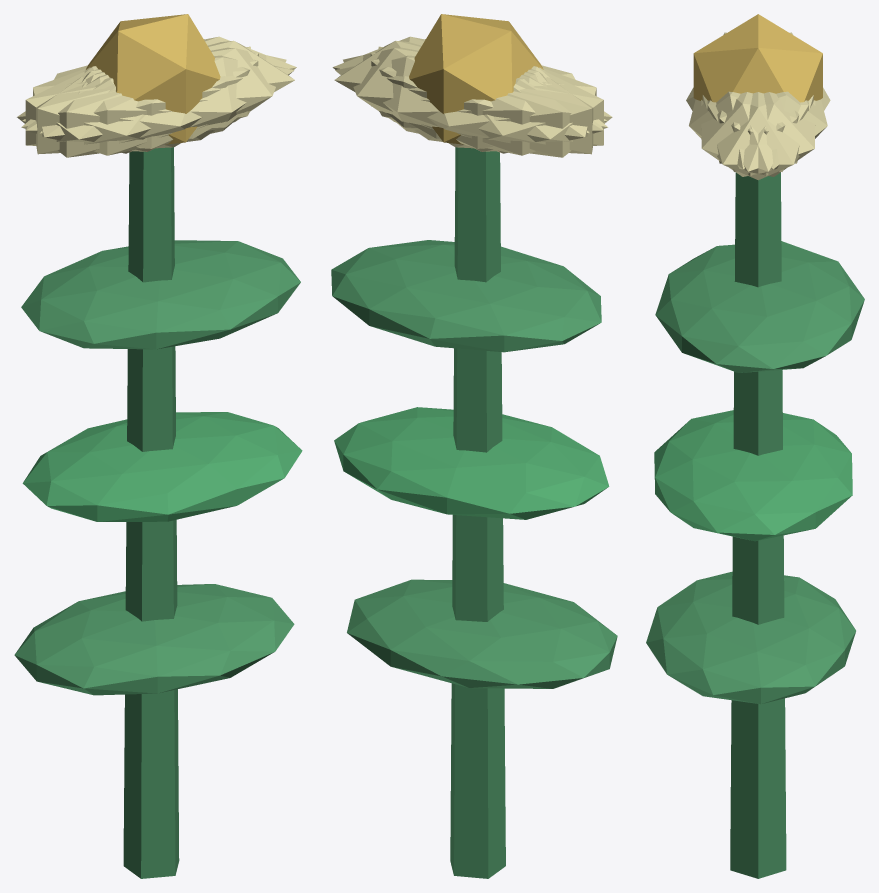
The model's file is cassia-fistula.glb.
3 views of the same model, side by side, from view 1: azimuth 30°, elevation 25°; view 2: azimuth 150°, elevation 25°; view 3: azimuth 270°, elevation 25° (orthographic).
Visible parts, largest first — view 1: stem, leaf0, leaf2, leaf1, center, petal1, petal6, petal2, petal5, petal7, petal0, petal4 (+2 smaller); view 2: stem, leaf2, leaf1, leaf0, center, petal8, petal3, petal7, petal4, petal2, petal0, petal5 (+2 smaller); view 3: stem, leaf2, leaf1, leaf0, center, petal0, petal5, petal4, petal1, petal8.
Boxes of the visible parts, x1,y1,x2,y2 form: stem: (123,147,179,878); leaf0: (14,584,294,695); leaf2: (21,240,300,349); leaf1: (22,412,302,521); center: (86,14,220,144); petal1: (21,55,294,155); petal6: (17,67,214,157); petal2: (36,46,250,154); petal5: (39,47,286,148); petal7: (25,52,258,151); petal0: (85,40,294,139); petal4: (22,36,296,130); stem: (450,147,505,878); leaf2: (331,240,601,352); leaf1: (334,407,609,519); leaf0: (347,579,617,688); center: (409,14,543,144); petal8: (335,55,607,155); petal3: (414,67,612,157); petal7: (378,46,593,154); petal4: (343,47,589,148); petal2: (370,52,603,151); petal0: (334,40,543,139); petal5: (332,36,606,130); stem: (730,172,786,878); leaf2: (655,241,864,372); leaf1: (654,410,852,541); leaf0: (646,571,855,704); center: (693,14,822,102); petal0: (702,92,813,180); petal5: (701,92,808,176); petal4: (707,92,815,176); petal1: (689,91,798,169); petal8: (717,91,827,169).
Bounding box in the file's own units: 0.1452 × 0.4362 × 0.1036.
